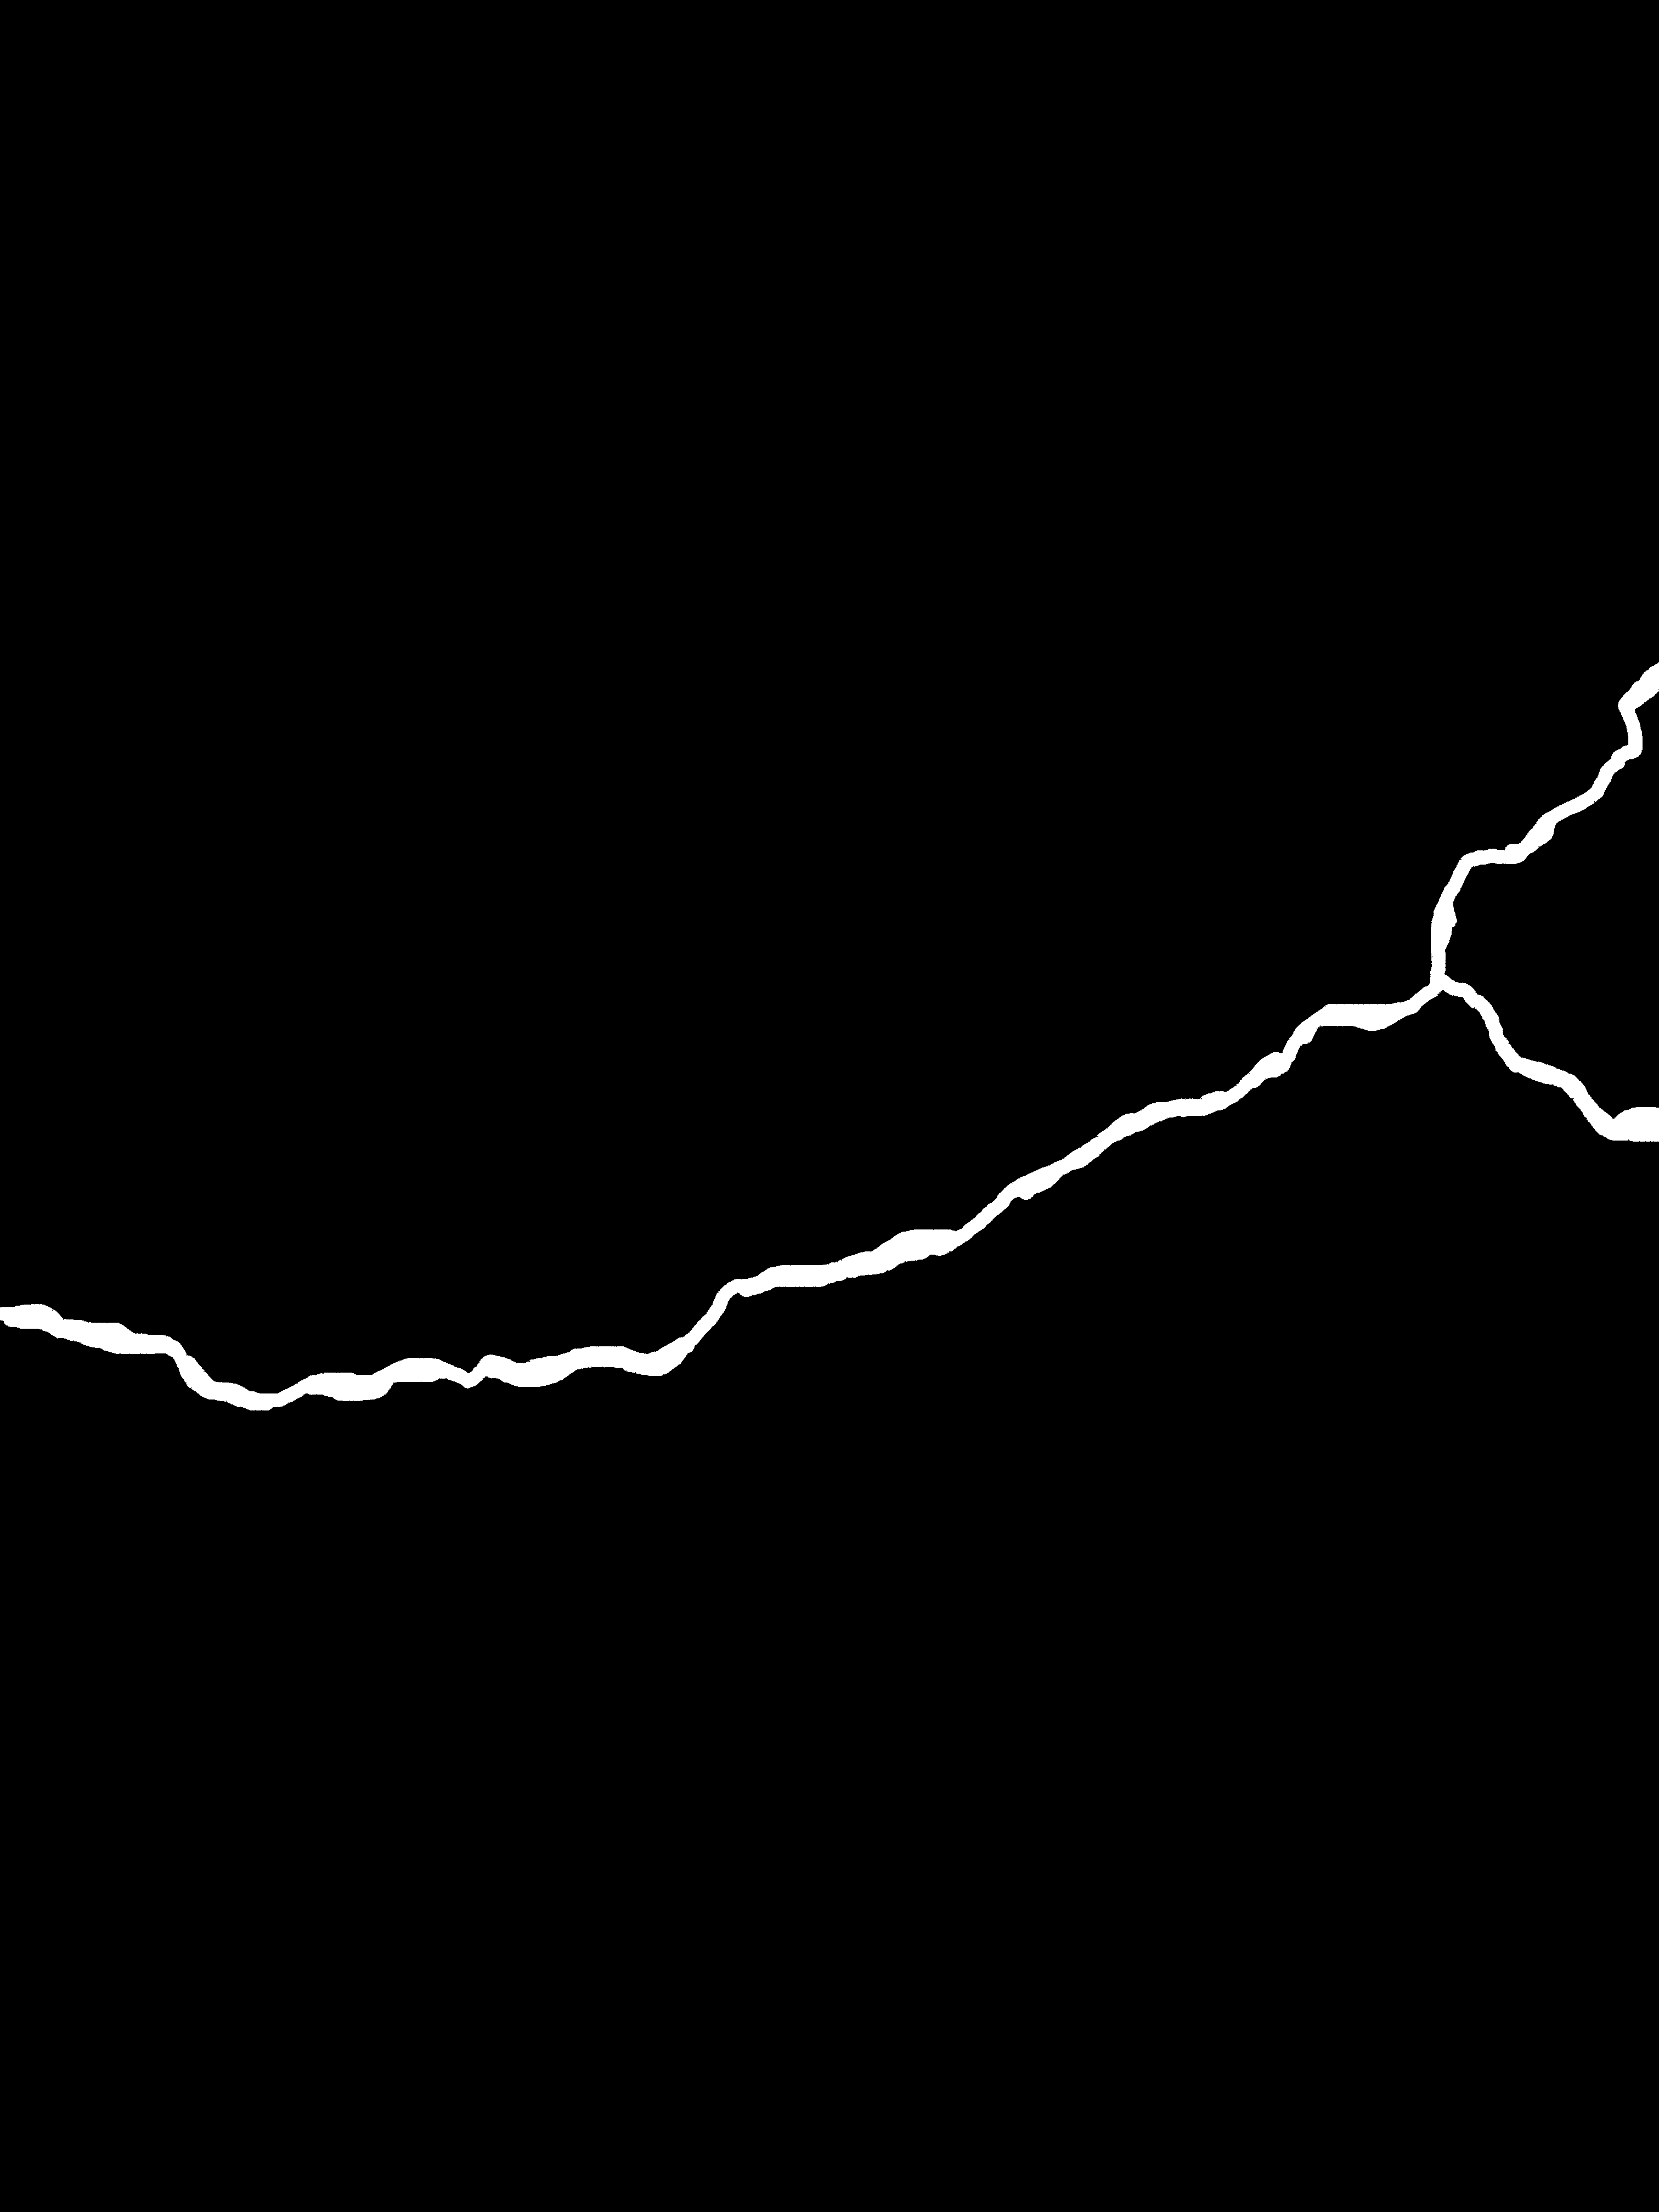Crack: (0, 632, 1659, 1442)
